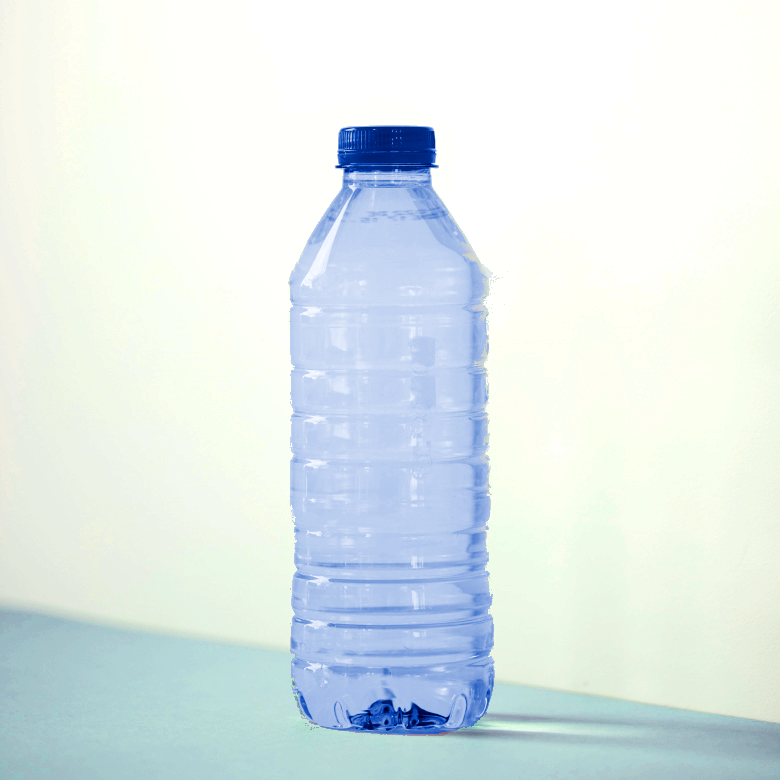plastic_bottle: (271, 118, 505, 730)
